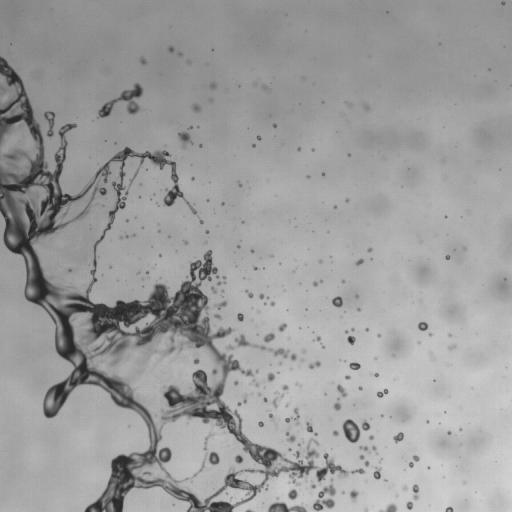droplet: (312, 479, 336, 511), (342, 419, 370, 442), (285, 407, 299, 425), (178, 132, 191, 147), (332, 296, 342, 307), (337, 385, 346, 397), (288, 488, 297, 500), (393, 432, 403, 442), (234, 454, 244, 464), (286, 431, 295, 442), (373, 466, 380, 479), (264, 333, 274, 342), (377, 389, 388, 397), (350, 490, 358, 501), (418, 322, 428, 330), (349, 362, 360, 369), (278, 323, 286, 331), (347, 336, 355, 344), (267, 372, 274, 381), (333, 401, 340, 410), (192, 104, 200, 111), (246, 290, 253, 297), (237, 313, 243, 321), (406, 501, 412, 509), (356, 259, 363, 265), (360, 446, 368, 451), (140, 58, 146, 64), (210, 83, 216, 89), (332, 430, 338, 436), (413, 455, 419, 461), (214, 314, 221, 319), (268, 413, 273, 420), (445, 507, 453, 511), (168, 46, 173, 52), (211, 287, 216, 293), (315, 336, 320, 342), (310, 482, 315, 488), (262, 84, 267, 89), (259, 294, 264, 299), (258, 421, 263, 426), (364, 461, 369, 466), (449, 345, 455, 349), (372, 446, 376, 452), (313, 281, 317, 286), (270, 301, 274, 306), (345, 375, 350, 379), (409, 462, 413, 467), (403, 485, 407, 490), (364, 105, 368, 109), (199, 219, 203, 223), (183, 240, 187, 244), (367, 248, 371, 252), (445, 255, 449, 259), (253, 266, 257, 270), (68, 268, 72, 272), (374, 373, 378, 377), (358, 386, 362, 390), (263, 398, 267, 402), (369, 435, 373, 439), (360, 455, 364, 459), (253, 82, 257, 85), (257, 136, 260, 140), (234, 381, 238, 384), (296, 383, 300, 386), (237, 402, 241, 405), (502, 1, 505, 4), (273, 124, 276, 127), (189, 126, 192, 129), (345, 199, 348, 202), (205, 230, 208, 233), (319, 260, 322, 263), (357, 308, 360, 311), (377, 334, 380, 337), (321, 344, 324, 347), (285, 403, 288, 406), (447, 431, 450, 434), (347, 103, 350, 105), (297, 148, 300, 150), (307, 175, 309, 178), (191, 177, 194, 179), (239, 183, 241, 186), (334, 205, 336, 208), (251, 249, 253, 252), (342, 280, 344, 283), (355, 295, 358, 297), (364, 509, 367, 511), (322, 173, 324, 175), (206, 199, 208, 201), (120, 237, 122, 239), (159, 254, 161, 256), (146, 271, 148, 273), (366, 328, 368, 330), (430, 333, 432, 335), (449, 334, 451, 336), (302, 350, 304, 352), (298, 443, 300, 445)
ligament: (0, 56, 363, 511), (234, 334, 296, 360), (98, 83, 142, 117), (267, 500, 307, 511), (272, 384, 288, 407), (43, 111, 54, 137), (306, 421, 317, 435), (130, 168, 139, 183), (378, 504, 397, 511), (215, 301, 227, 309), (308, 361, 320, 369), (412, 484, 418, 500), (217, 276, 225, 285), (243, 395, 247, 402), (246, 509, 253, 511)
